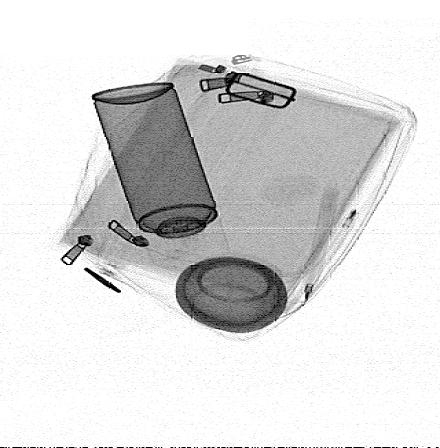Sprayer: (91, 82, 232, 266)
